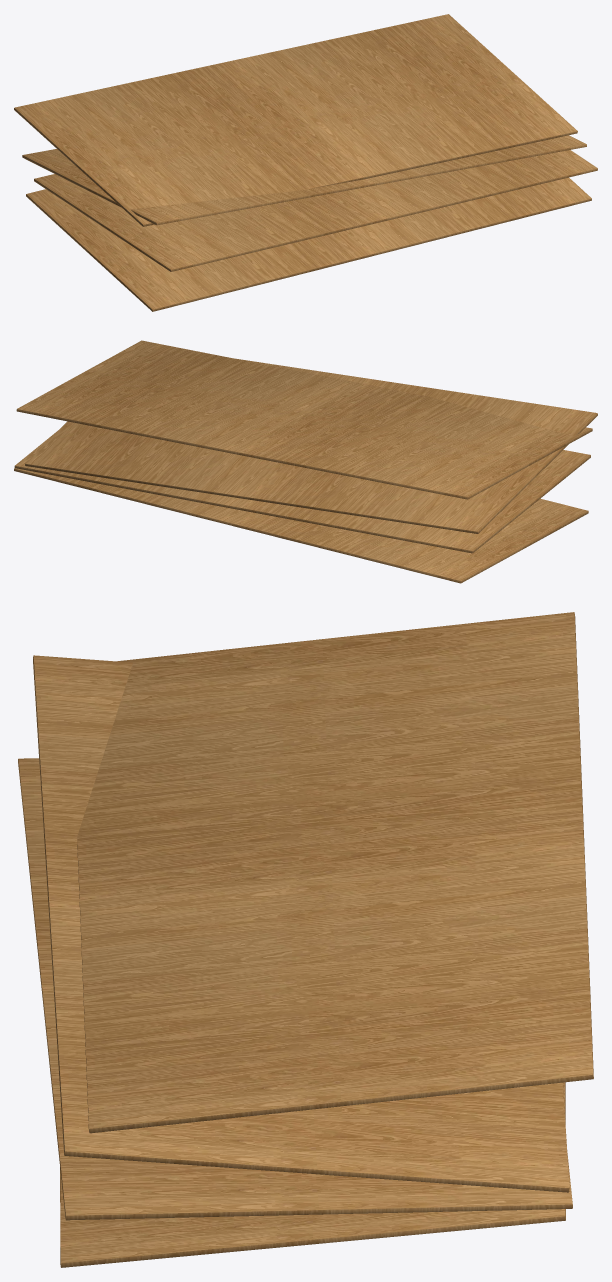
The model's file is EST-FOR-002_anim.glb.
The picture shows the model from 3 angles, top to bottom: view 1: azimuth 30°, elevation 25°; view 2: azimuth 150°, elevation 25°; view 3: azimuth 270°, elevation 25°; orthographic projection. The views are drawn at different scales.
Parts seen in each view (by area): view 1: EST-FOR-002_anim3, EST-FOR-002_anim1, EST-FOR-002_anim0, EST-FOR-002_anim2; view 2: EST-FOR-002_anim3, EST-FOR-002_anim2, EST-FOR-002_anim0, EST-FOR-002_anim1; view 3: EST-FOR-002_anim3, EST-FOR-002_anim2, EST-FOR-002_anim1, EST-FOR-002_anim0.
Part boxes in pixels (box(x1,y1,x2,y2)): EST-FOR-002_anim3: box(14, 14, 577, 226); EST-FOR-002_anim1: box(34, 150, 597, 271); EST-FOR-002_anim0: box(26, 177, 591, 311); EST-FOR-002_anim2: box(22, 135, 586, 225); EST-FOR-002_anim3: box(16, 340, 592, 499); EST-FOR-002_anim2: box(25, 358, 597, 533); EST-FOR-002_anim0: box(14, 468, 588, 583); EST-FOR-002_anim1: box(14, 431, 590, 553); EST-FOR-002_anim3: box(77, 612, 593, 1133); EST-FOR-002_anim2: box(33, 655, 569, 1192); EST-FOR-002_anim1: box(18, 758, 572, 1220); EST-FOR-002_anim0: box(60, 1082, 565, 1267).
Bounding box in the file's own units: 2.29 × 0.5383 × 1.25.
Materials: 1 (1 with a texture image).
